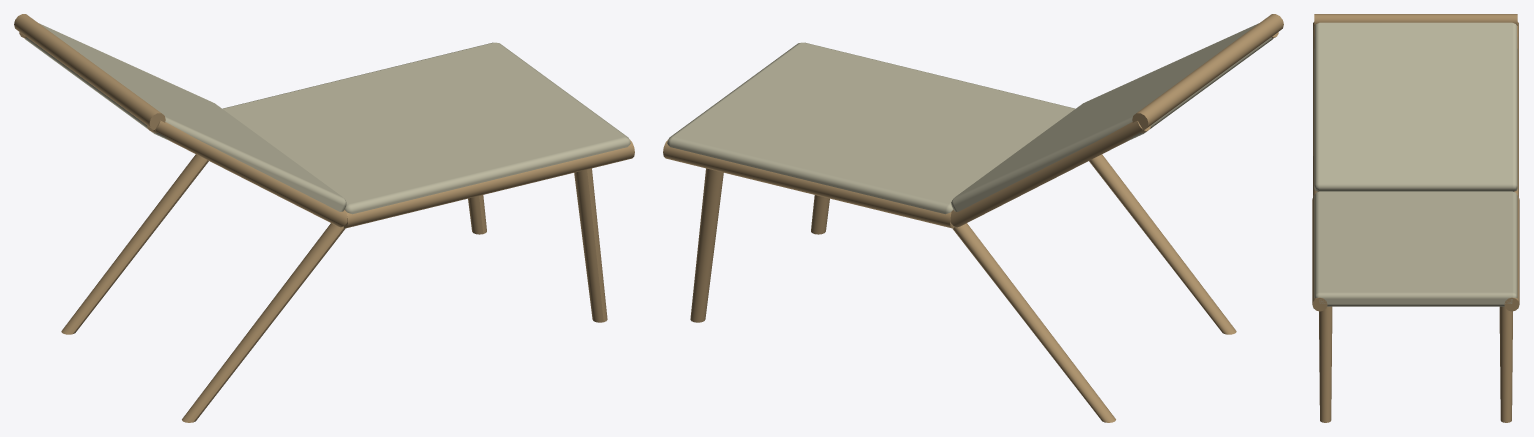
The model's file is sunlounger.glb.
3 renders of one model, left to right at view 1: azimuth 30°, elevation 25°; view 2: azimuth 150°, elevation 25°; view 3: azimuth 270°, elevation 25°, orthographic. The views are drawn at different scales.
Visible parts, largest first — view 1: clear-lounger-seat, reclined-lounger-back, lounger-seat-rail-0-34, lounger-rear-leg-0-32, lounger-head-rail, lounger-rear-leg--0-32, lounger-back-rail-0-34, lounger-front-leg-0-32, lounger-front-leg--0-32; view 2: clear-lounger-seat, reclined-lounger-back, lounger-seat-rail--0-34, lounger-rear-leg--0-32, lounger-head-rail, lounger-rear-leg-0-32, lounger-back-rail--0-34, lounger-front-leg--0-32, lounger-front-leg-0-32; view 3: reclined-lounger-back, clear-lounger-seat, lounger-head-rail, lounger-front-leg--0-32, lounger-front-leg-0-32, lounger-seat-rail--0-34, lounger-seat-rail-0-34, lounger-back-rail--0-34, lounger-back-rail-0-34.
Boxes of the visible parts, x1,y1,x2,y2 form: clear-lounger-seat: (222, 42, 630, 214); reclined-lounger-back: (25, 23, 346, 211); lounger-seat-rail-0-34: (343, 139, 634, 228); lounger-rear-leg-0-32: (182, 223, 345, 422); lounger-head-rail: (14, 14, 165, 130); lounger-rear-leg--0-32: (61, 154, 208, 334); lounger-back-rail-0-34: (147, 120, 347, 227); lounger-front-leg-0-32: (574, 168, 607, 322); lounger-front-leg--0-32: (468, 195, 486, 234); clear-lounger-seat: (667, 42, 1075, 214); reclined-lounger-back: (951, 23, 1272, 211); lounger-seat-rail--0-34: (663, 139, 954, 228); lounger-rear-leg--0-32: (952, 223, 1115, 422); lounger-head-rail: (1132, 14, 1283, 130); lounger-rear-leg-0-32: (1089, 154, 1236, 334); lounger-back-rail--0-34: (950, 120, 1150, 227); lounger-front-leg--0-32: (690, 168, 723, 322); lounger-front-leg-0-32: (811, 195, 829, 234); reclined-lounger-back: (1314, 22, 1517, 191); clear-lounger-seat: (1314, 191, 1517, 306); lounger-head-rail: (1314, 14, 1517, 25); lounger-front-leg--0-32: (1499, 306, 1512, 422); lounger-front-leg-0-32: (1319, 306, 1332, 422); lounger-seat-rail--0-34: (1504, 195, 1519, 311); lounger-seat-rail-0-34: (1312, 195, 1327, 311); lounger-back-rail--0-34: (1514, 22, 1518, 196); lounger-back-rail-0-34: (1313, 22, 1317, 196).
Size of the model in its own units: 1.48 by 0.9428 by 0.734.
